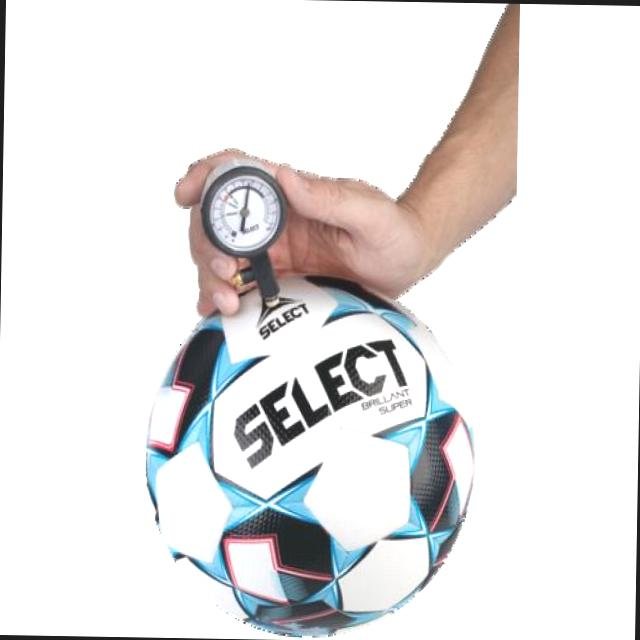Soccer Ball: (145, 270, 476, 636)
